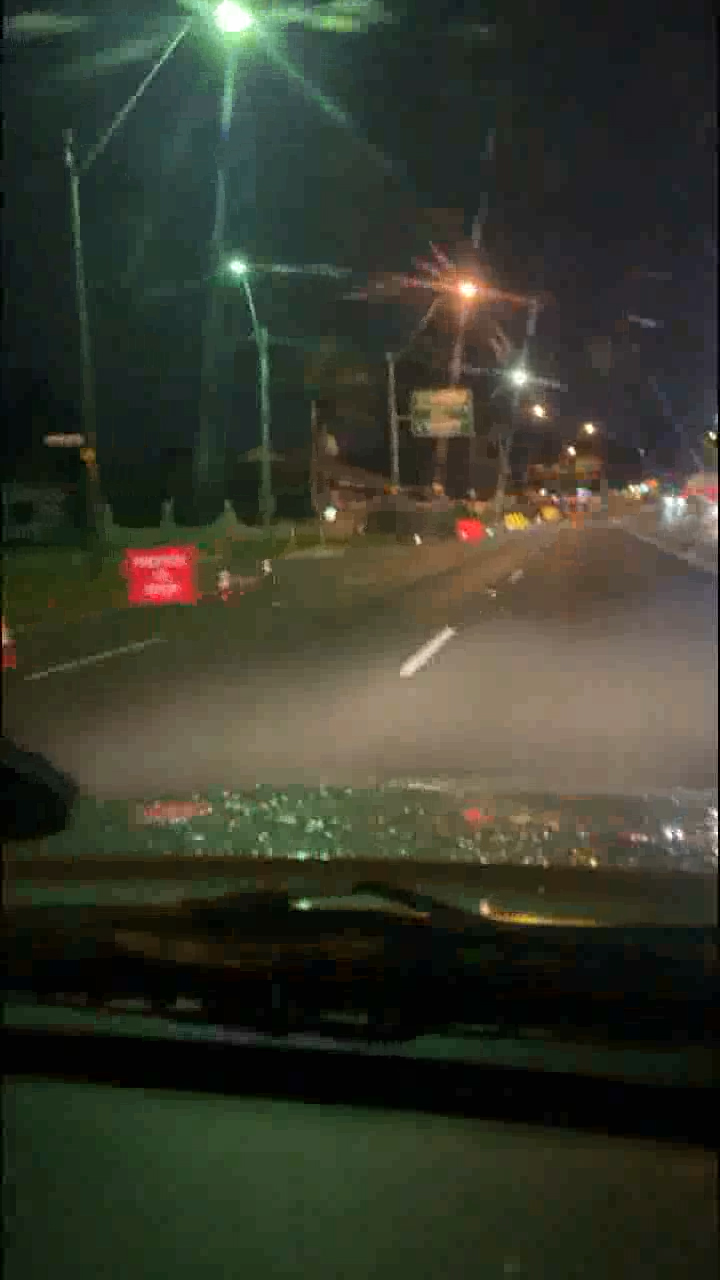road works sign board: (127, 552, 199, 609), (458, 521, 485, 542)
